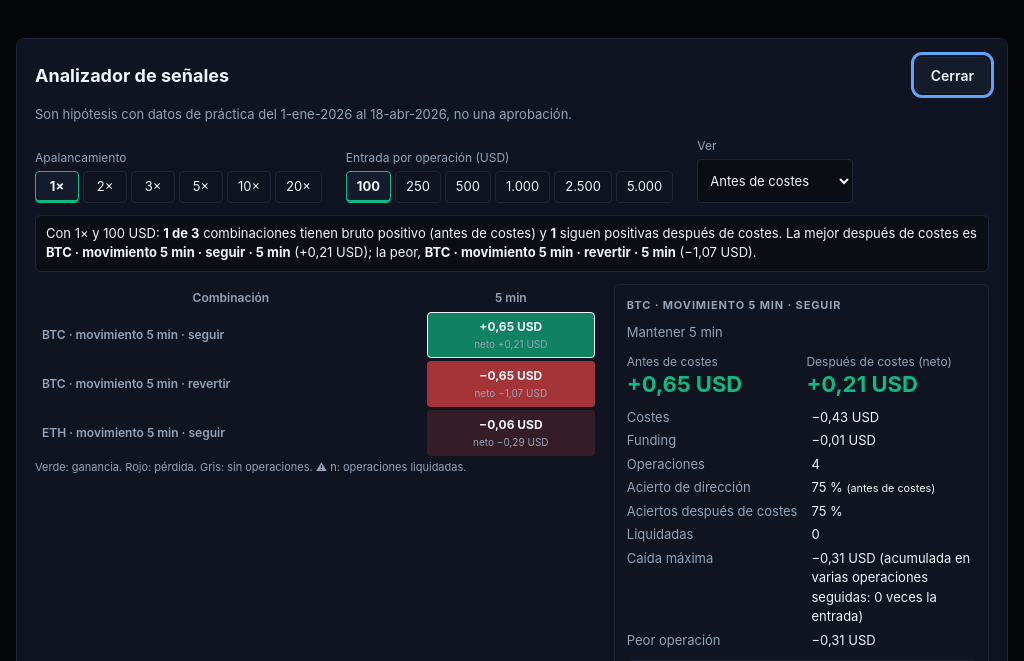
Test: Analizador de señales › el selector Ver cambia el número grande de la celda, el otro queda chico
Expected: the element with test id "analyzer-summary" is shown, top-left (35, 215), bottom-right (989, 272)
Expected: the button with aria-label "BTC · movimiento 5 min · seguir · 5 min" shows "+0,65 USD", top-left (427, 312), bottom-right (595, 358)
Step 1. Select "Después de costes" in the dropdown labelled "Ver" → (775, 181), box top-left (697, 159), bottom-right (853, 203)
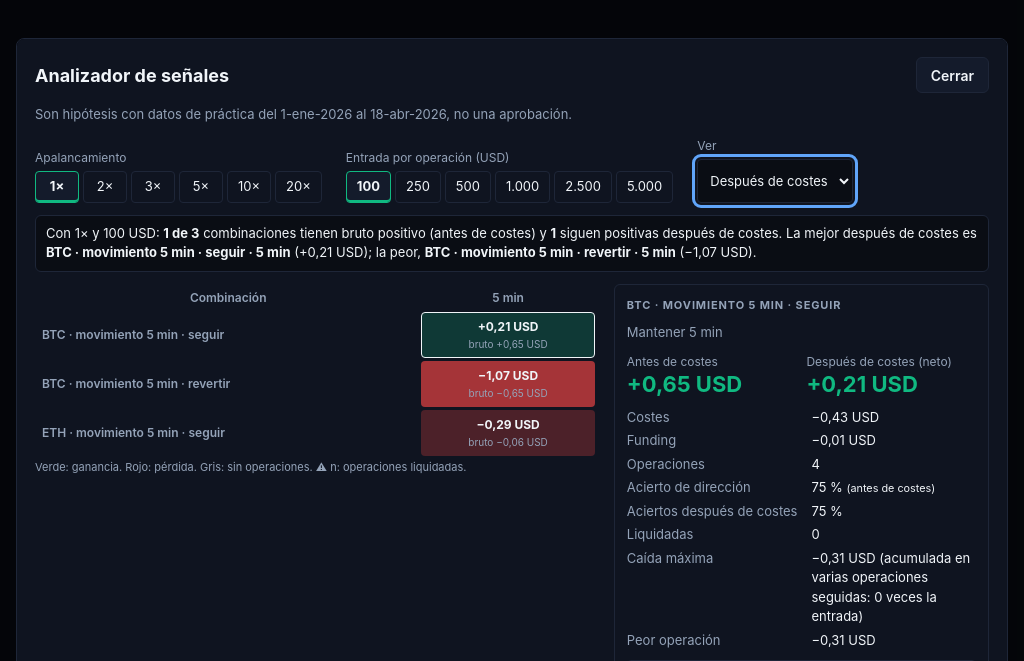
Now the button with aria-label "BTC · movimiento 5 min · seguir · 5 min" shows "bruto +0,65 USD", box top-left (421, 312), bottom-right (595, 358)
